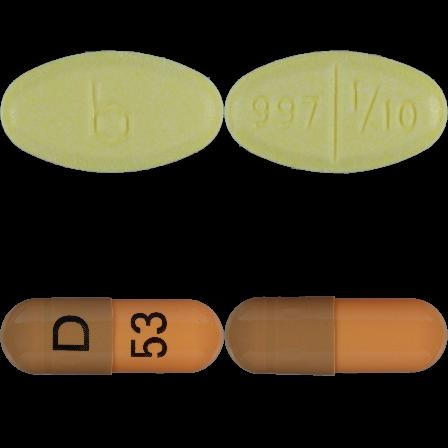43063-714: (0, 0, 224, 224)
